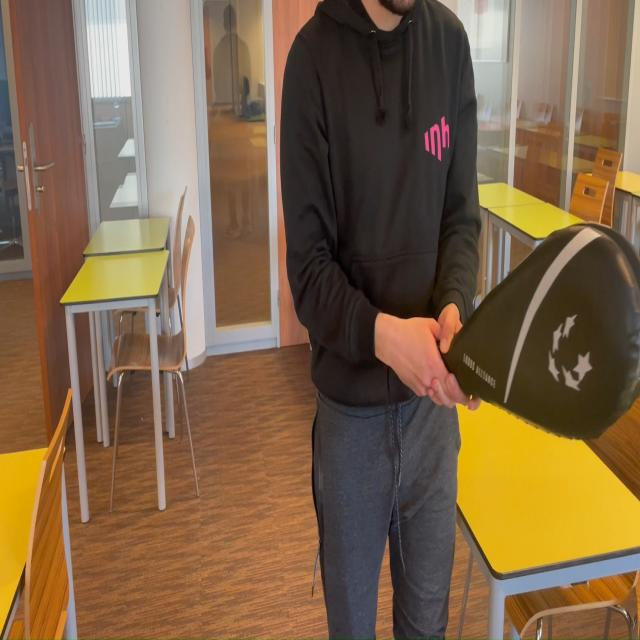paddle: (477, 230, 639, 430)
